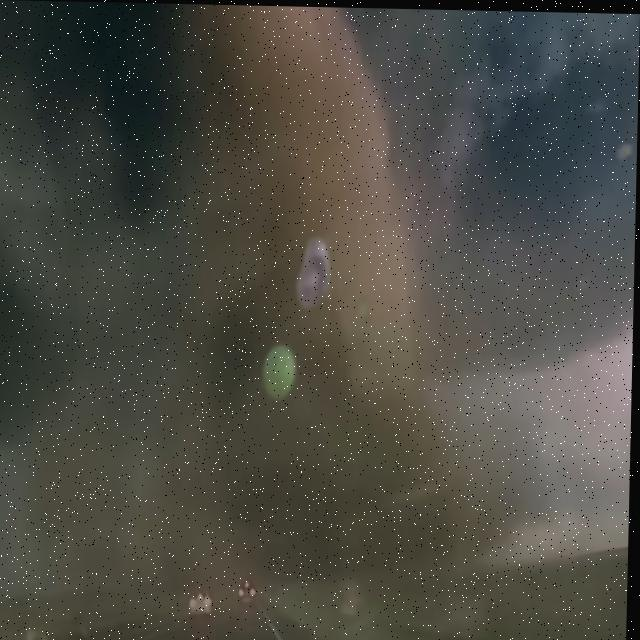balloon: (299, 236, 332, 311), (266, 344, 297, 397)
